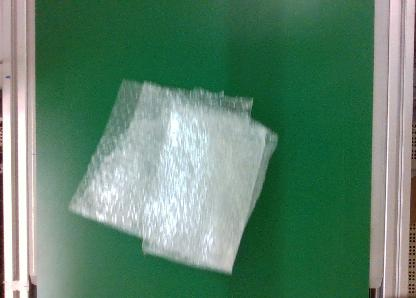Others: (66, 78, 278, 278)
